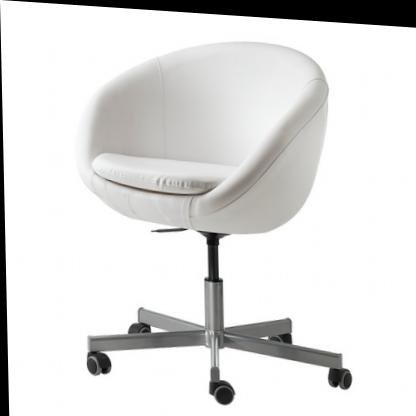Chair: (69, 24, 353, 410)
